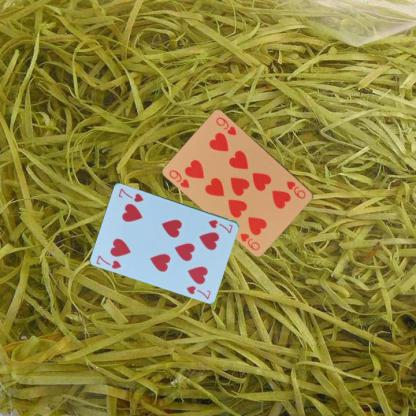7h: (206, 216, 234, 235), (94, 252, 122, 270)
9h: (166, 167, 192, 189), (284, 178, 308, 200)
